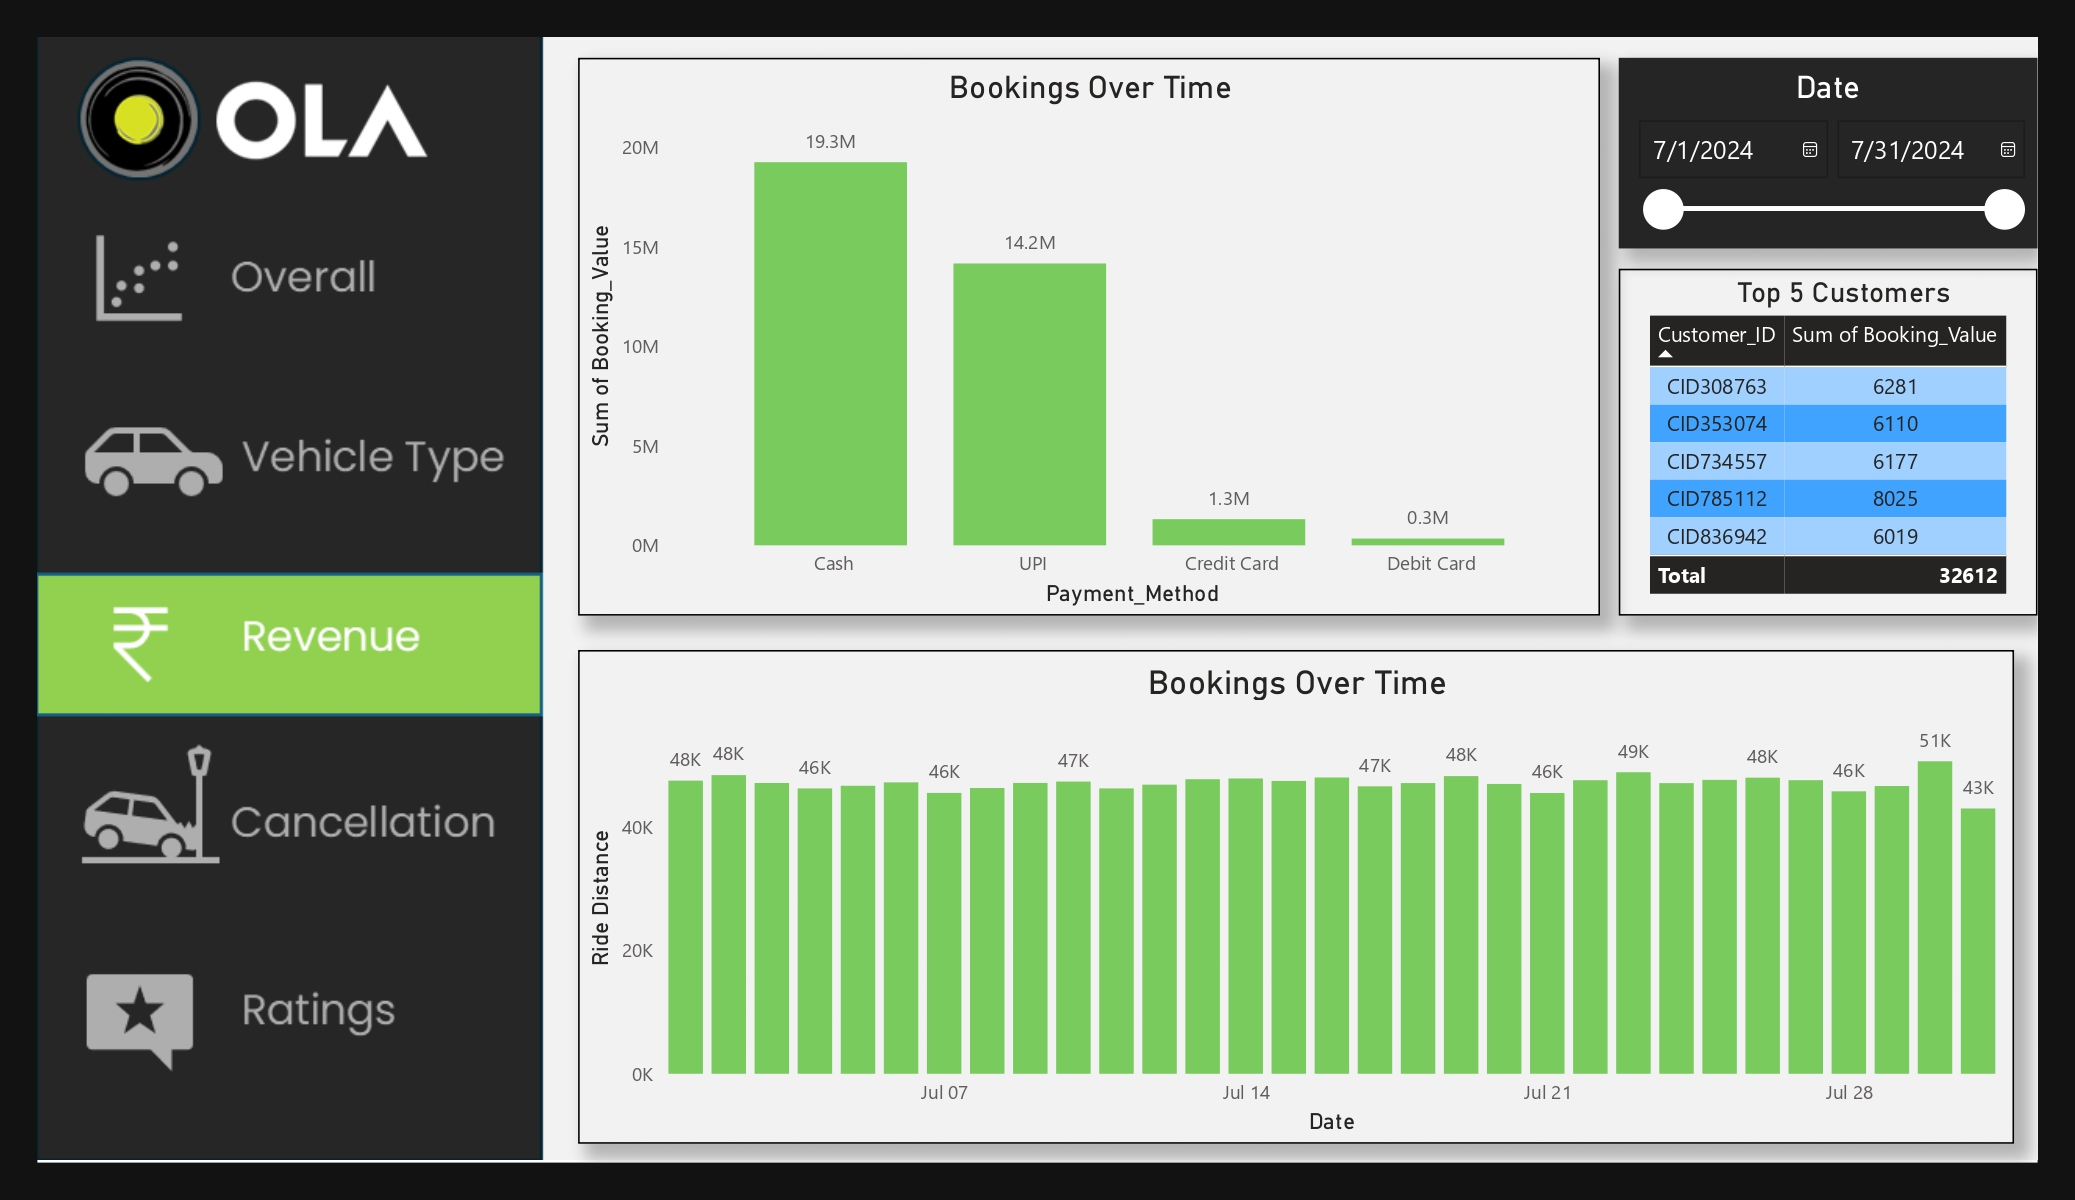

The dashboard page shown, as its layout file describes it:
{"tool":"powerbi","page":{"name":"Revenue","canvas":[1280,720],"ordinal":3},"visuals":[{"type":"actionButton","box":[0,104.3,322.7,90.8],"z":0},{"type":"actionButton","box":[0,222.1,322.7,90.8],"z":1000},{"type":"actionButton","box":[1.2,446.6,322.7,90.8],"z":2000},{"type":"actionButton","box":[0,571.8,322.7,90.8],"z":3000},{"type":"columnChart","title":"Bookings Over Time","fields":{"Y":["Sum(July.Booking_Value)"],"Category":["July.Payment_Method"]},"box":[345.9,12.9,654.5,357.4],"z":4000},{"type":"columnChart","title":"Bookings Over Time","fields":{"Y":["Sum(July.Ride_Distance)"],"Category":["July.Date"]},"box":[345.9,391.8,918.6,315.8],"z":5000},{"type":"slicer","title":"Date","fields":{"Values":["July.Date"]},"box":[1011.9,12.9,268.4,122],"z":6000},{"type":"tableEx","title":"Top 5 Customers","fields":{"Values":["July.Customer_ID","Sum(July.Booking_Value)"]},"box":[1011.9,147.8,268.4,222.5],"z":7000}]}

Visuals, with their boxes on the page's 1280x720 design canvas (x1, y1, x2, y2). These are canvas units, not pixel positions in the 2075x1200 screenshot, which may show the page scaled, cropped or inside an application window:
actionButton: left=0, top=104, right=323, bottom=195
actionButton: left=0, top=222, right=323, bottom=313
actionButton: left=1, top=447, right=324, bottom=537
actionButton: left=0, top=572, right=323, bottom=663
"Bookings Over Time" columnChart: left=346, top=13, right=1000, bottom=370
"Bookings Over Time" columnChart: left=346, top=392, right=1264, bottom=708
"Date" slicer: left=1012, top=13, right=1280, bottom=135
"Top 5 Customers" tableEx: left=1012, top=148, right=1280, bottom=370
